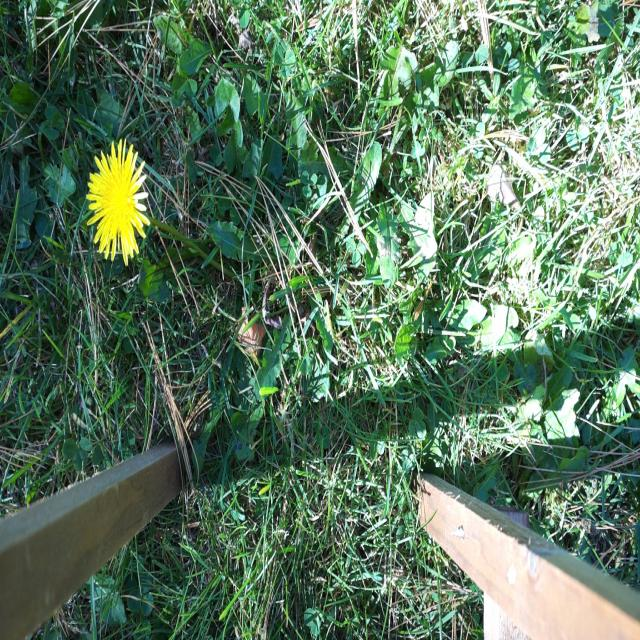base: (221, 259, 244, 292)
flower: (83, 141, 149, 260)
